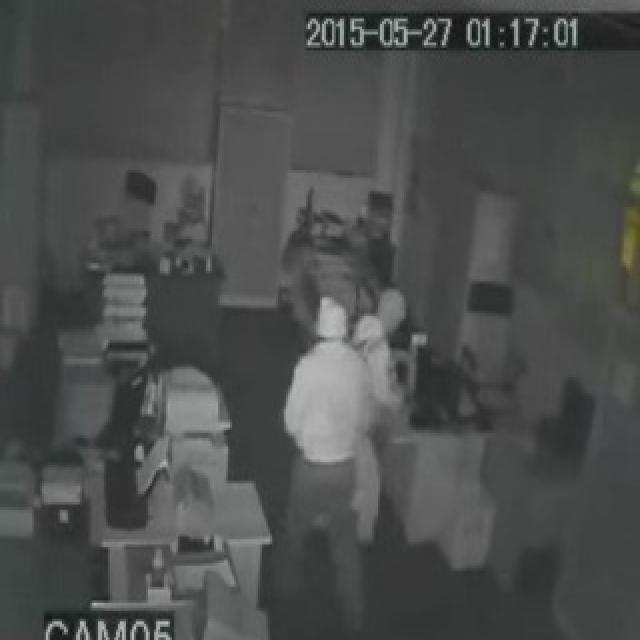thief: (309, 287, 422, 364)
